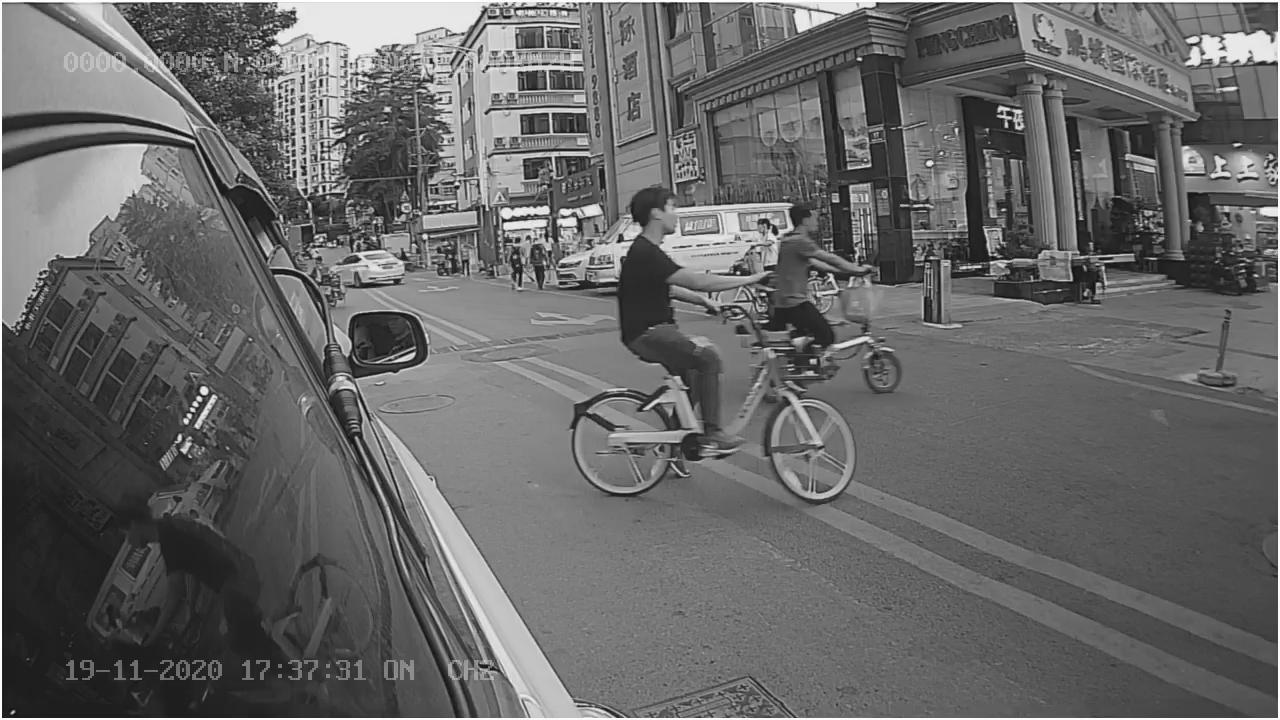person: (616, 187, 736, 378)
